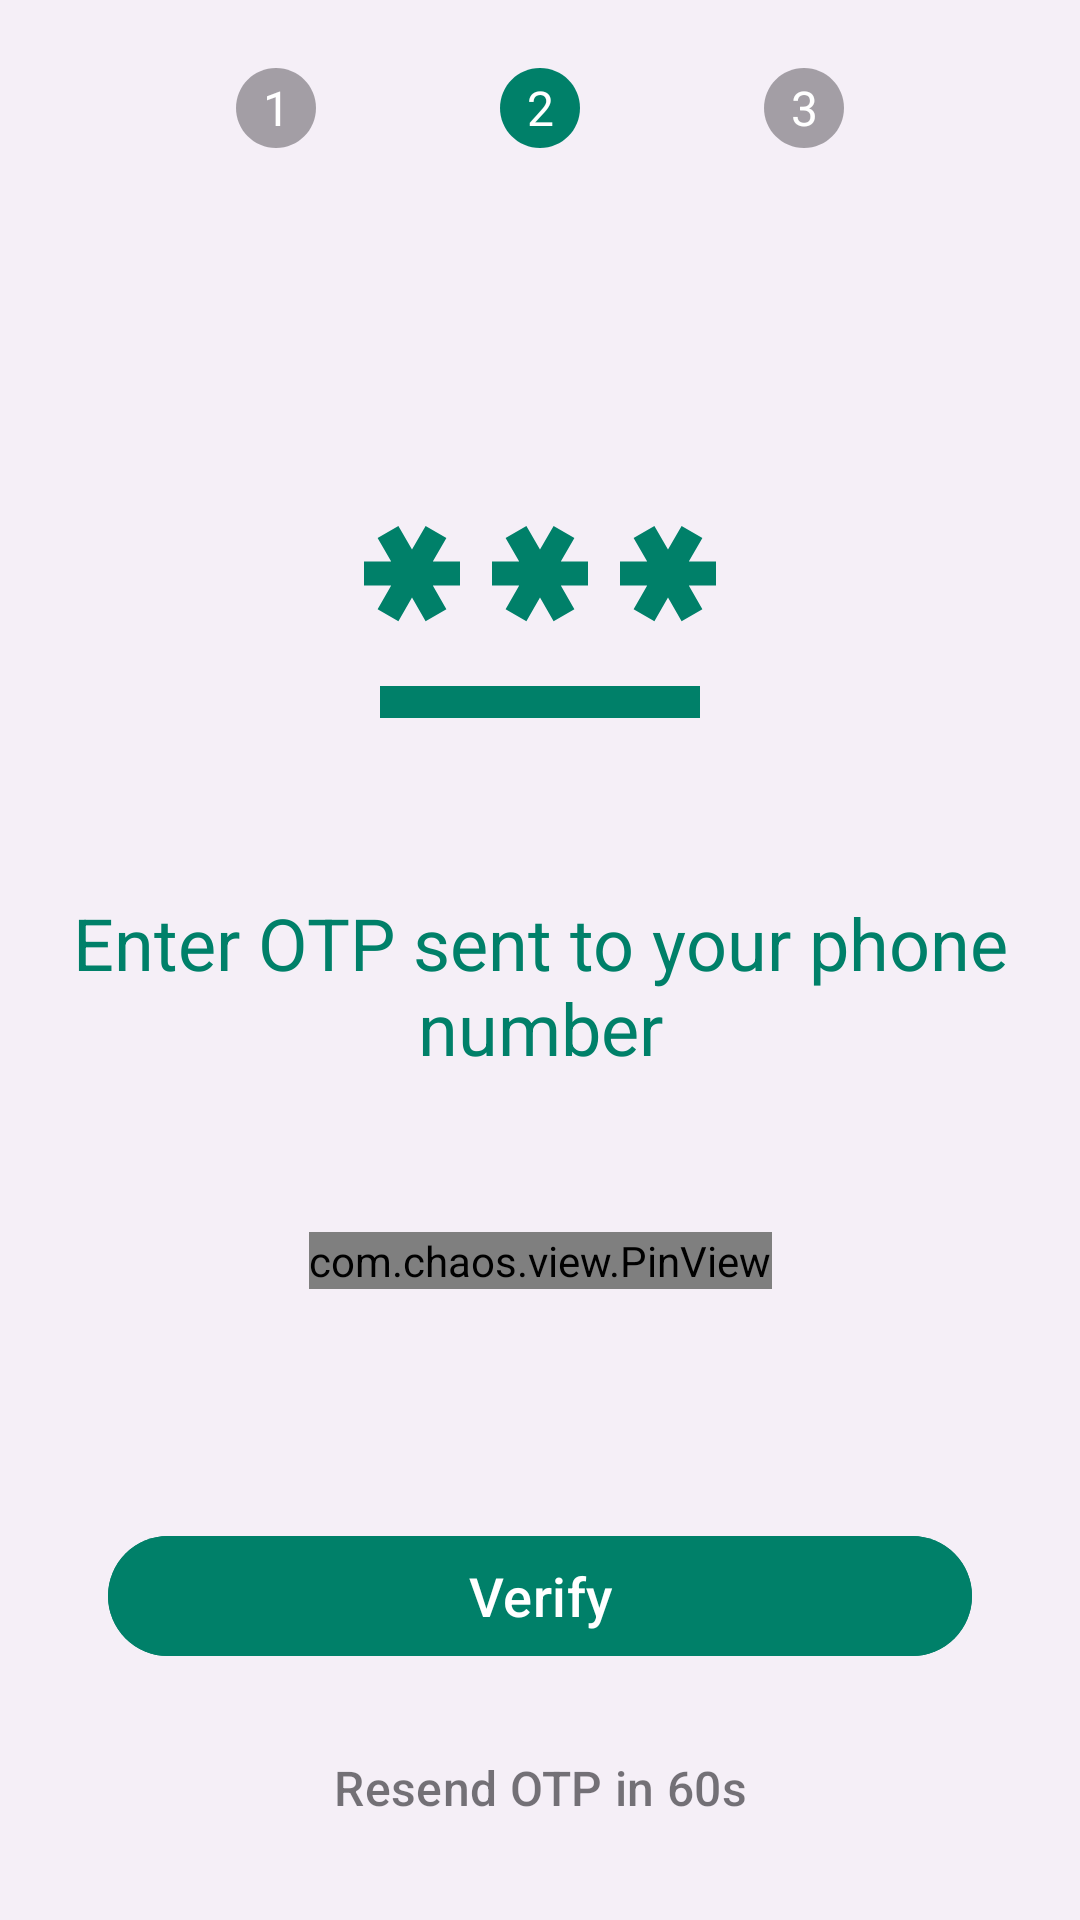

Icons on this 1080 x 1920 Android screen, each with its box as (x1, y1, x2, y2):
password: (364, 526, 716, 718)
